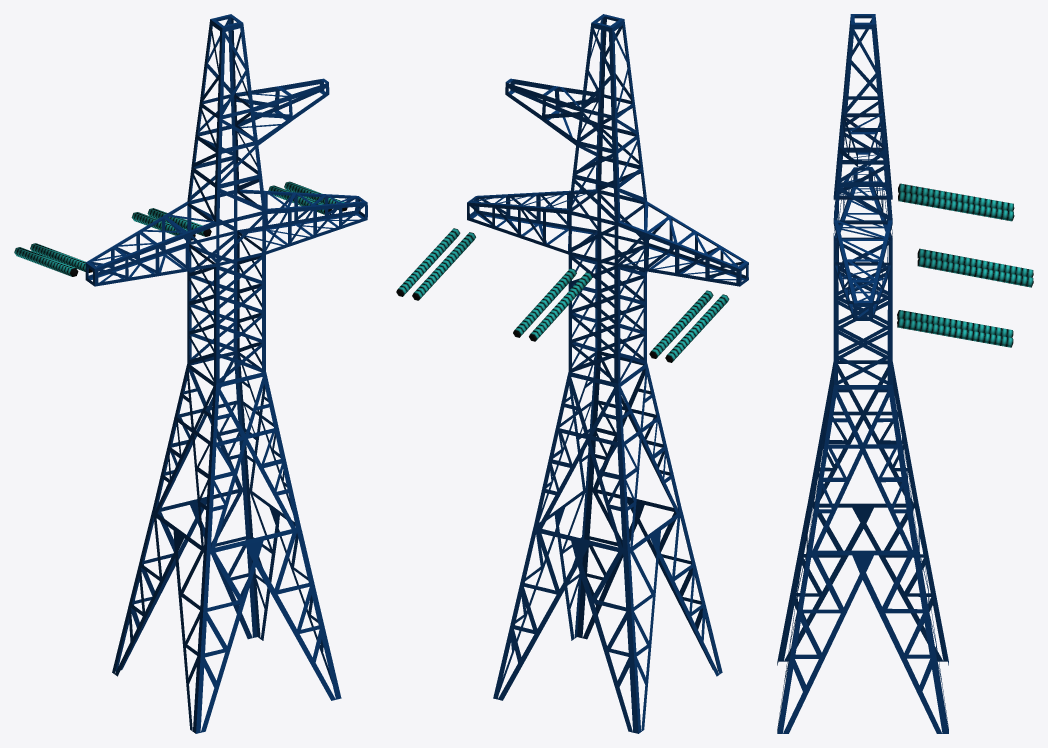
File: m_pylon.glb
3 views of the same model, side by side, from view 1: azimuth 30°, elevation 25°; view 2: azimuth 150°, elevation 25°; view 3: azimuth 270°, elevation 25° (orthographic). The views are drawn at different scales.
Parts seen in each view (by area): view 1: body|TOWER_T; view 2: body|TOWER_T; view 3: body|TOWER_T.
Boxes of the visible parts, x1,y1,x2,y2 form: body|TOWER_T: (14, 14, 367, 733); body|TOWER_T: (396, 14, 748, 733); body|TOWER_T: (777, 14, 1033, 733).
Bounding box in the file's own units: 15.35 × 35.08 × 12.
Materials: 1 (1 with a texture image).
